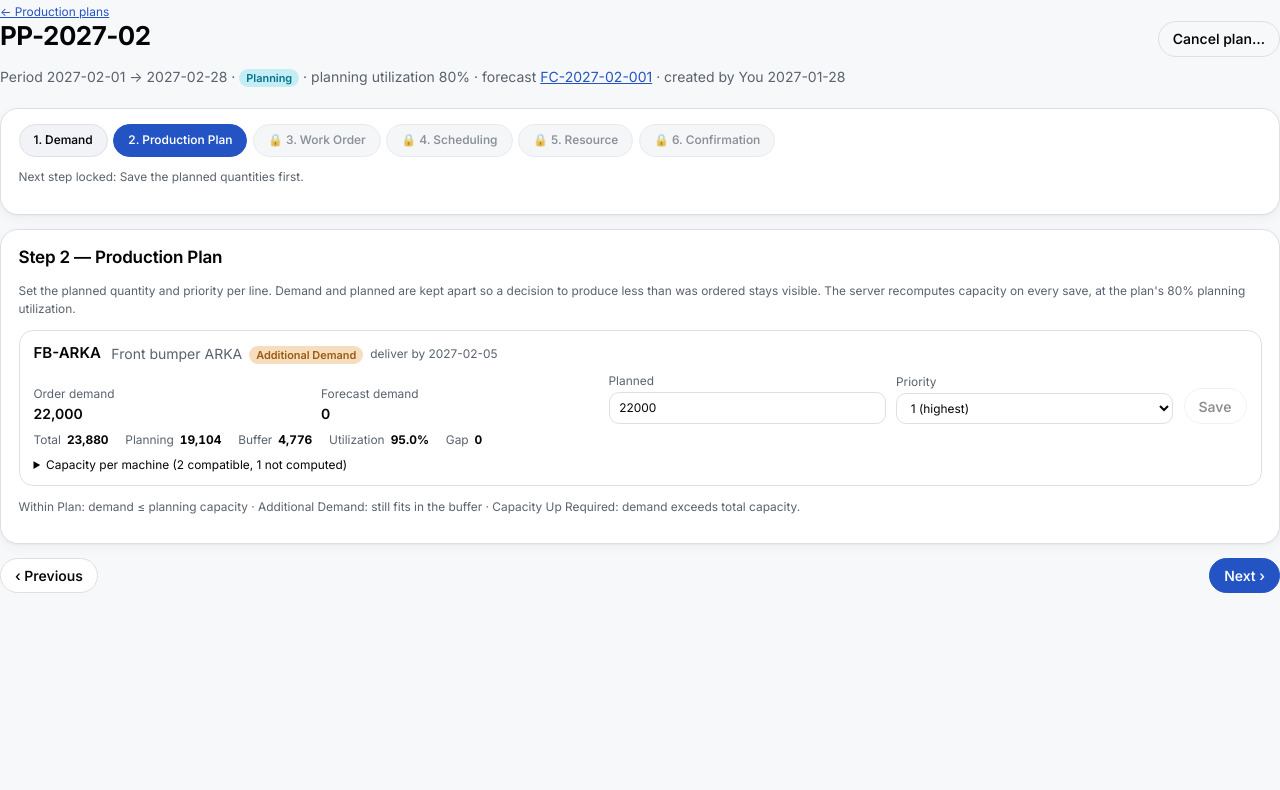
it: resumes at the server's step, shows what blocks the next one, and allows going back
The image size is (1280, 790).
Expected: the heading "PP-2027-02" is shown, [0, 20, 151, 51]
Expected: the heading "Step 2 — Production Plan" is shown, [18, 245, 222, 270]
Step 1. Click the button "Next ›" → (1245, 576), box [1209, 558, 1279, 594]
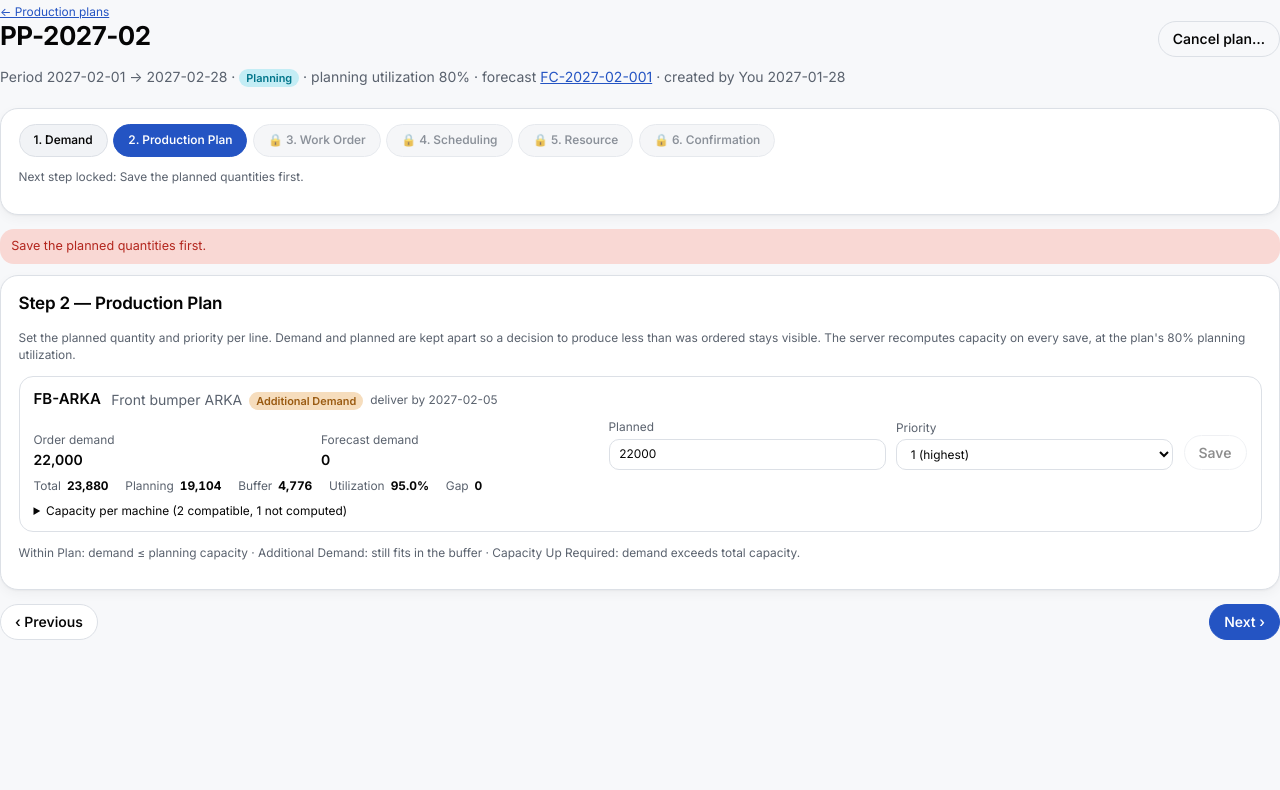
Expected: the heading "Step 2 — Production Plan" is shown, [18, 291, 222, 317]
Result: the message reads "Save the planned quantities first." at [11, 238, 206, 253]
Step 2. Click the button "‹ Previous" → (49, 622), box [0, 604, 98, 640]
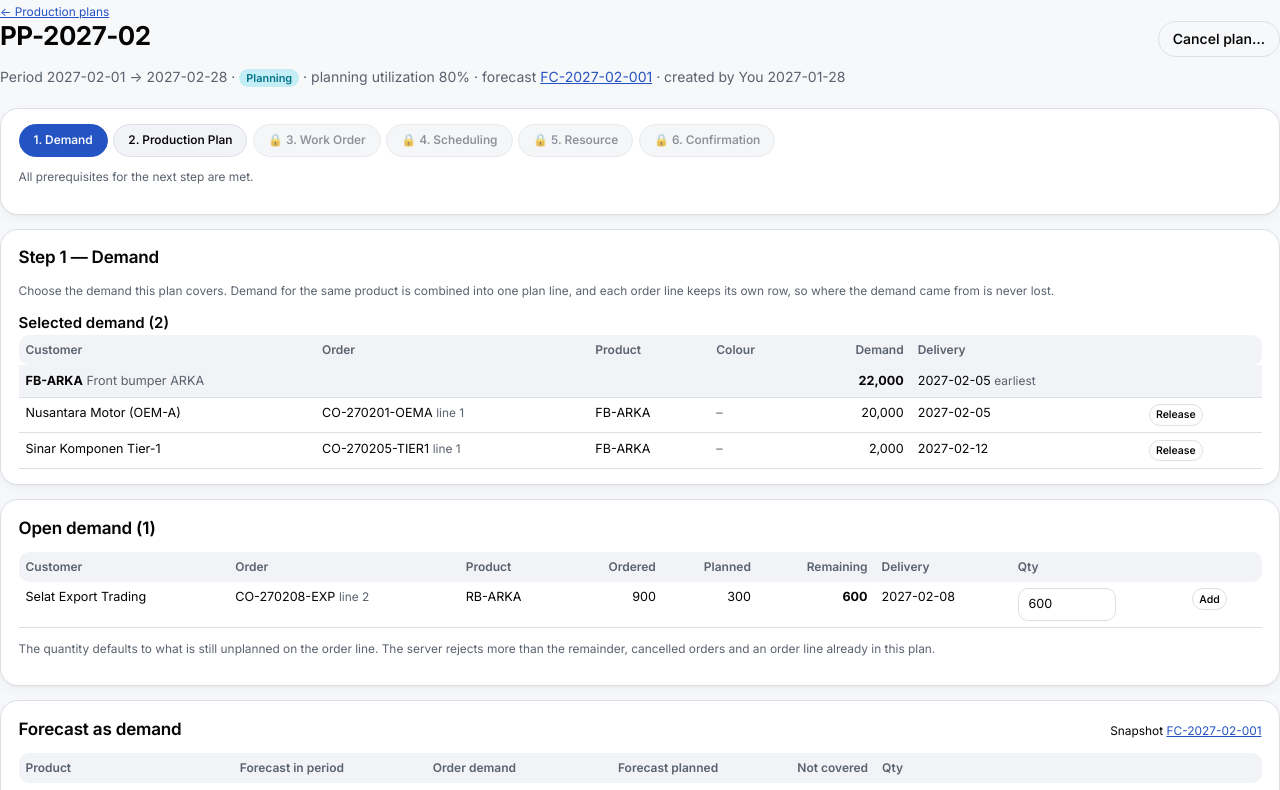
Result: the heading "Step 1 — Demand" is shown at [18, 245, 159, 270]
